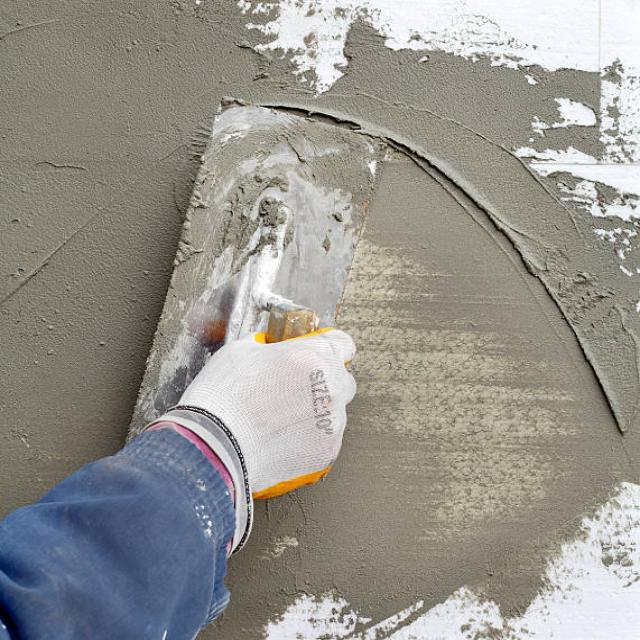gloves: (172, 311, 358, 501)
